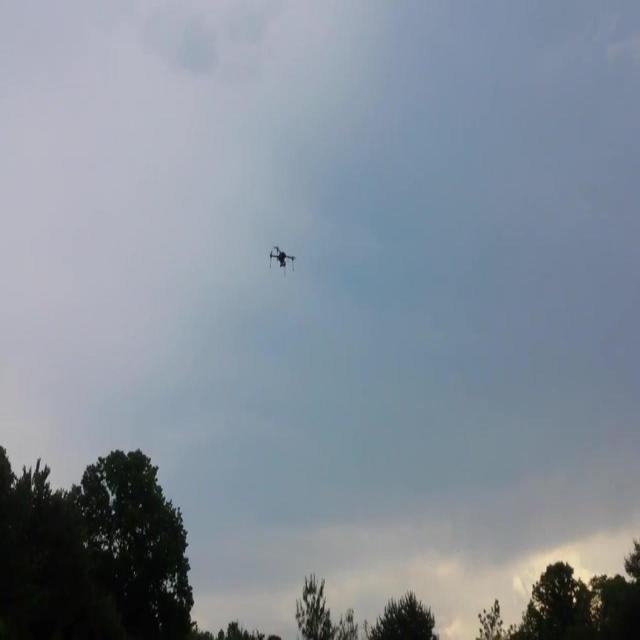UAV: (270, 246, 296, 278)
